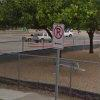Tree: (12, 0, 99, 23)
